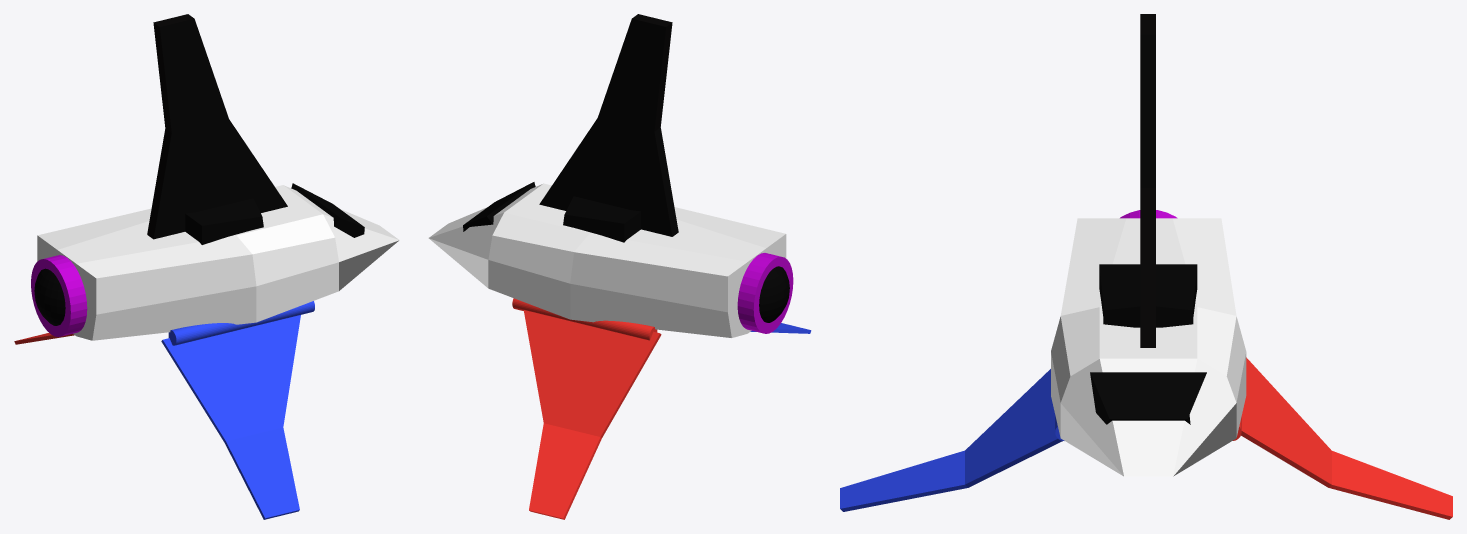
File: ship_min.obj
The picture shows the model from 3 angles, left to right: view 1: azimuth 30°, elevation 25°; view 2: azimuth 150°, elevation 25°; view 3: azimuth 270°, elevation 25°; orthographic projection. The views are drawn at different scales.
Parts seen in each view (by area): view 1: Cube, Cube.005_Cube.010, Cube.007_Cube.012, Cylinder.002, Cube.006_Cube.011, Cylinder.001, Sphere_Sphere.002, Cube.003_Cube.013, Cube.001_Cube.004; view 2: Cube, Cube.004_Cube.008, Cube.005_Cube.010, Cylinder.002, Cube.006_Cube.011, Sphere_Sphere.002, Cylinder, Cube.003_Cube.013, Cube.001_Cube.004; view 3: Cube, Cube.007_Cube.012, Cube.004_Cube.008, Cube.003_Cube.013, Cube.006_Cube.011, Cube.005_Cube.010, Cube.001_Cube.004.
Boxes of the visible parts, x1,y1,x2,y2 form: Cube: (37,185,399,340); Cube.005_Cube.010: (147,14,287,239); Cube.007_Cube.012: (161,315,300,519); Cylinder.002: (31,255,87,336); Cube.006_Cube.011: (185,198,263,244); Cylinder.001: (168,301,314,345); Sphere_Sphere.002: (34,268,65,325); Cube.003_Cube.013: (291,183,364,237); Cube.001_Cube.004: (150,15,191,237); Cube: (428,183,786,337); Cube.004_Cube.008: (523,310,661,519); Cube.005_Cube.010: (539,14,678,236); Cylinder.002: (737,253,793,333); Cube.006_Cube.011: (563,196,640,242); Sphere_Sphere.002: (759,266,789,322); Cylinder: (512,298,657,340); Cube.003_Cube.013: (463,182,535,231); Cube.001_Cube.004: (634,16,676,235); Cube: (1051,218,1246,476); Cube.007_Cube.012: (840,369,1062,511); Cube.004_Cube.008: (1241,357,1452,519); Cube.003_Cube.013: (1090,372,1206,424); Cube.006_Cube.011: (1099,264,1197,327); Cube.005_Cube.010: (1140,14,1155,347); Cube.001_Cube.004: (1146,14,1150,347).
Bounding box in the file's own units: 1.26 × 1.4 × 1.57.
